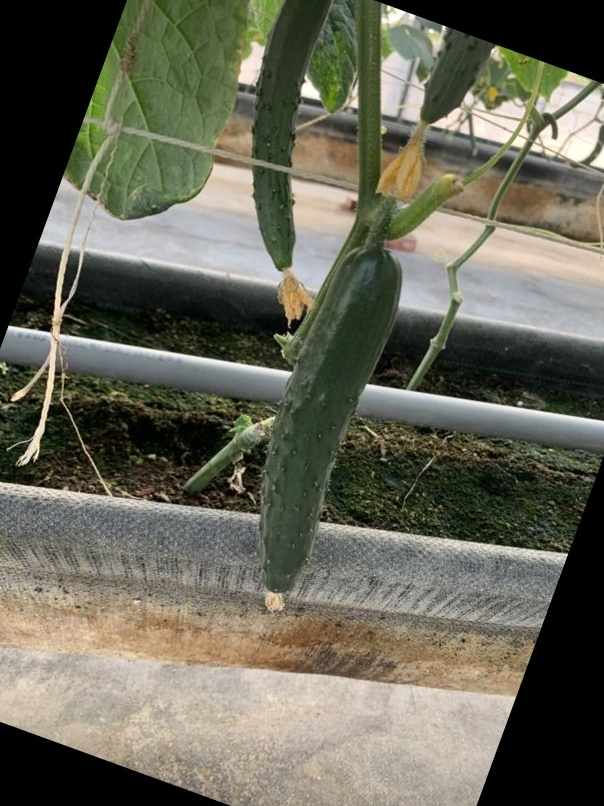mature: (246, 234, 409, 599), (244, 0, 325, 285)
